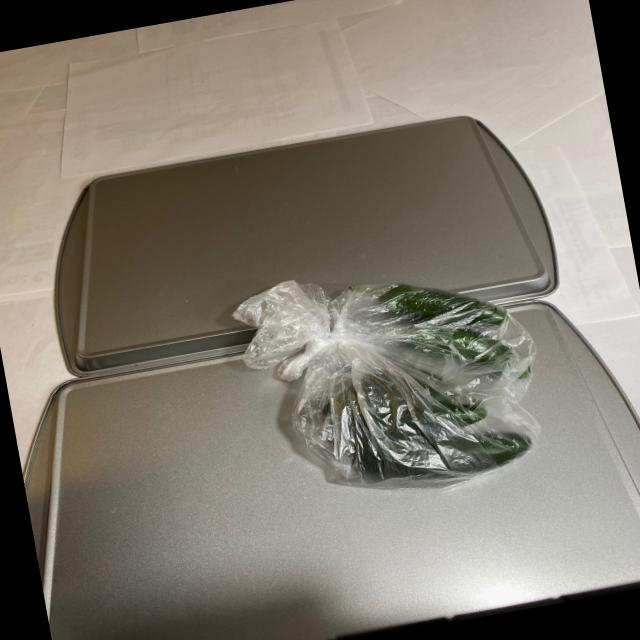chilli: (257, 248, 548, 516)
